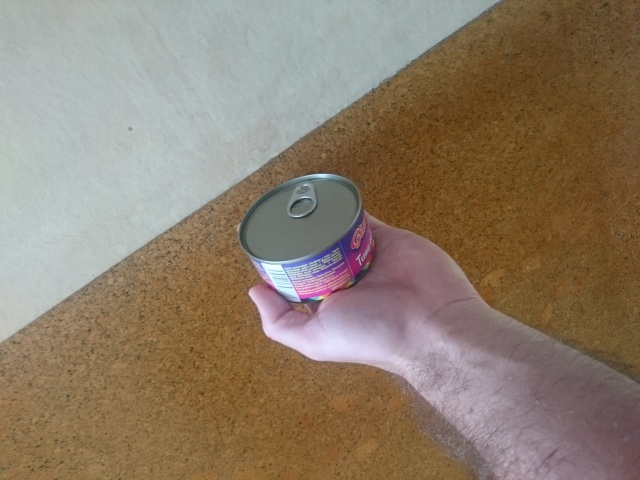Giana Tuna Salad Mexico 185g: (234, 170, 378, 306)
